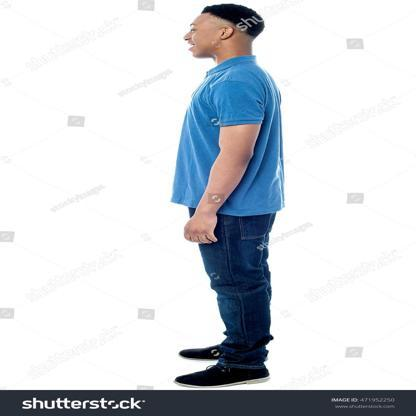person: (160, 3, 298, 390)
